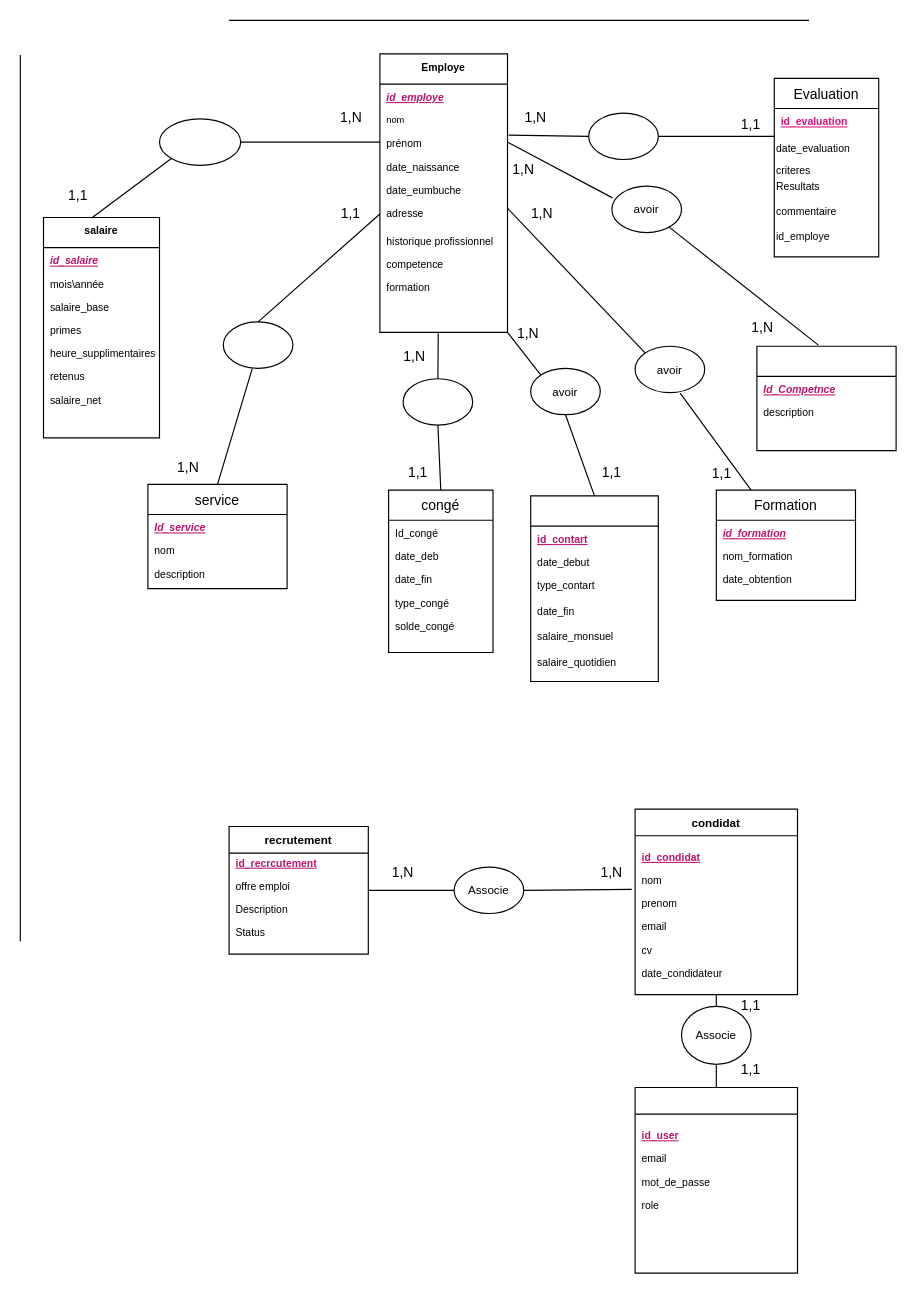
Some shapes in this 916 by 1293 pixel diagram are drawn without their labels. Here are the shapes that lost their labels. From the top down, the box of each, then its label:
(158, 118, 241, 165): recoit
(588, 112, 658, 160): Evaluer par
(222, 321, 293, 368): appartient
(402, 378, 473, 425): prend
(756, 345, 896, 451): Compétence
(530, 495, 658, 682): Contrat
(634, 1086, 798, 1273): Utilisateur
